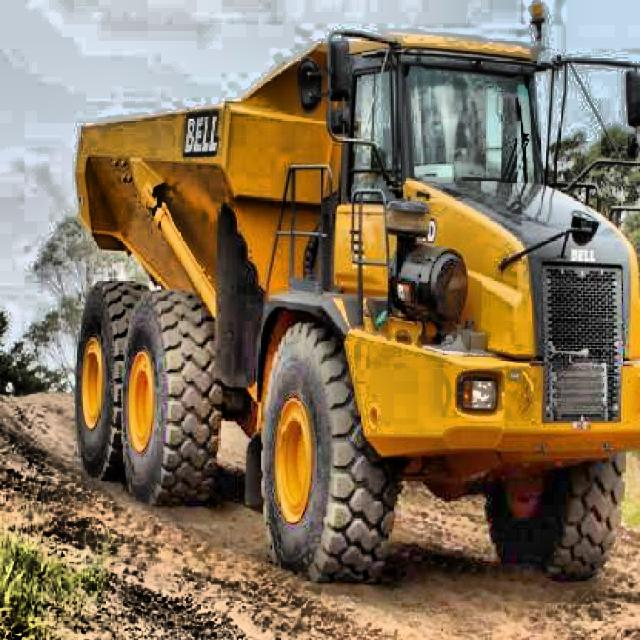dump_truck: (57, 3, 640, 582)
